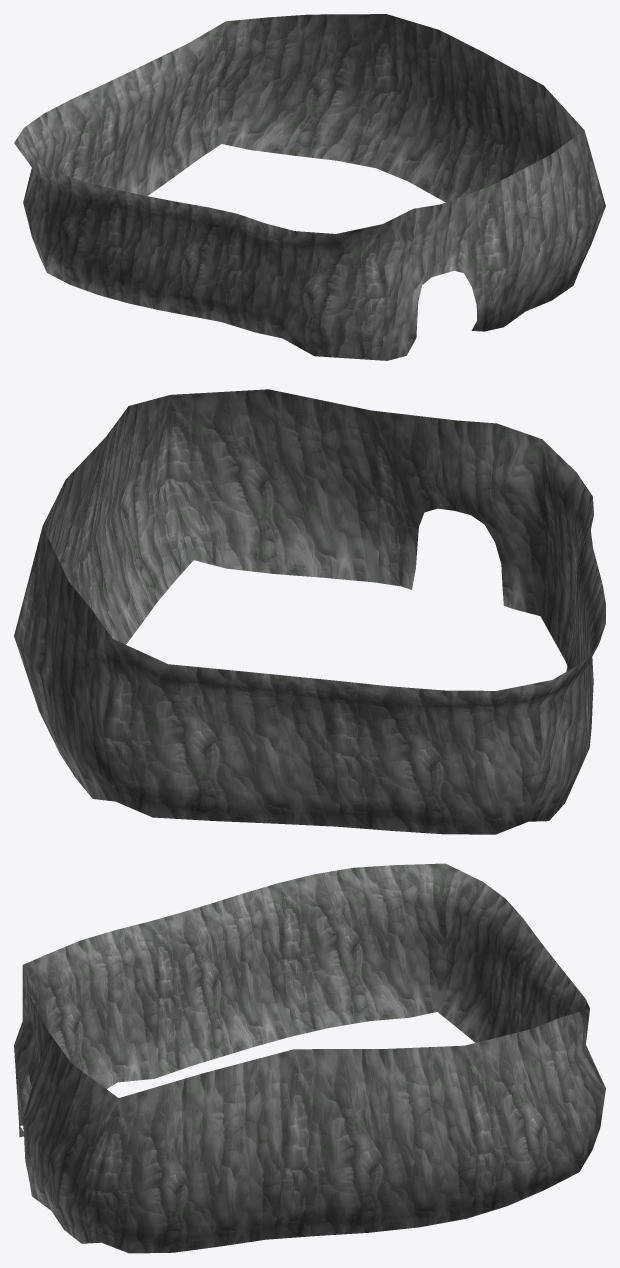
The model's file is SWORDLIGHT20_PS-AREA03-05TRANS_07.fbx.
The picture shows the model from 3 angles, top to bottom: view 1: azimuth 30°, elevation 25°; view 2: azimuth 150°, elevation 25°; view 3: azimuth 270°, elevation 25°; orthographic projection. The views are drawn at different scales.
Visible parts, largest first — view 1: SWORDLIGHT20_PS-AREA03-05TRANS_07; view 2: SWORDLIGHT20_PS-AREA03-05TRANS_07; view 3: SWORDLIGHT20_PS-AREA03-05TRANS_07.
Part boxes in pixels (left/top/right/bottom): SWORDLIGHT20_PS-AREA03-05TRANS_07: left=14, top=14, right=605, bottom=360; SWORDLIGHT20_PS-AREA03-05TRANS_07: left=14, top=389, right=605, bottom=834; SWORDLIGHT20_PS-AREA03-05TRANS_07: left=14, top=863, right=605, bottom=1253.
Size of the model in its own units: 182363 by 68326 by 179762.
1 material, 1 textured.
